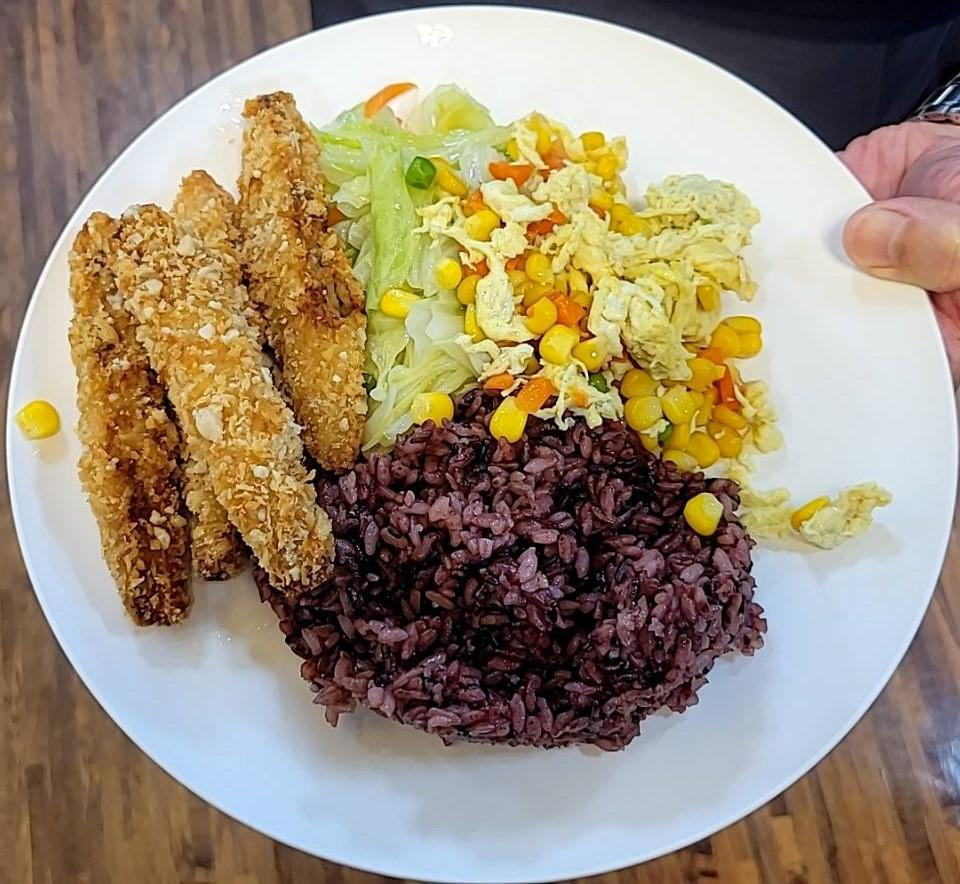big fried chicken leg: (2, 18, 960, 884)
braised fish: (268, 418, 764, 751)
braised fish fillet: (444, 120, 779, 462), (343, 78, 490, 431)
braised pork: (71, 84, 375, 629)
